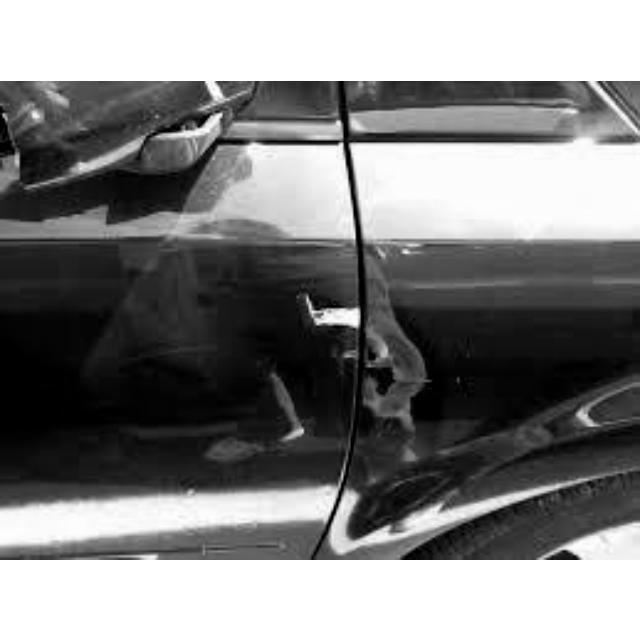doorouter-dent: (55, 160, 356, 552)
quaterpanel-dent: (364, 145, 571, 488)
